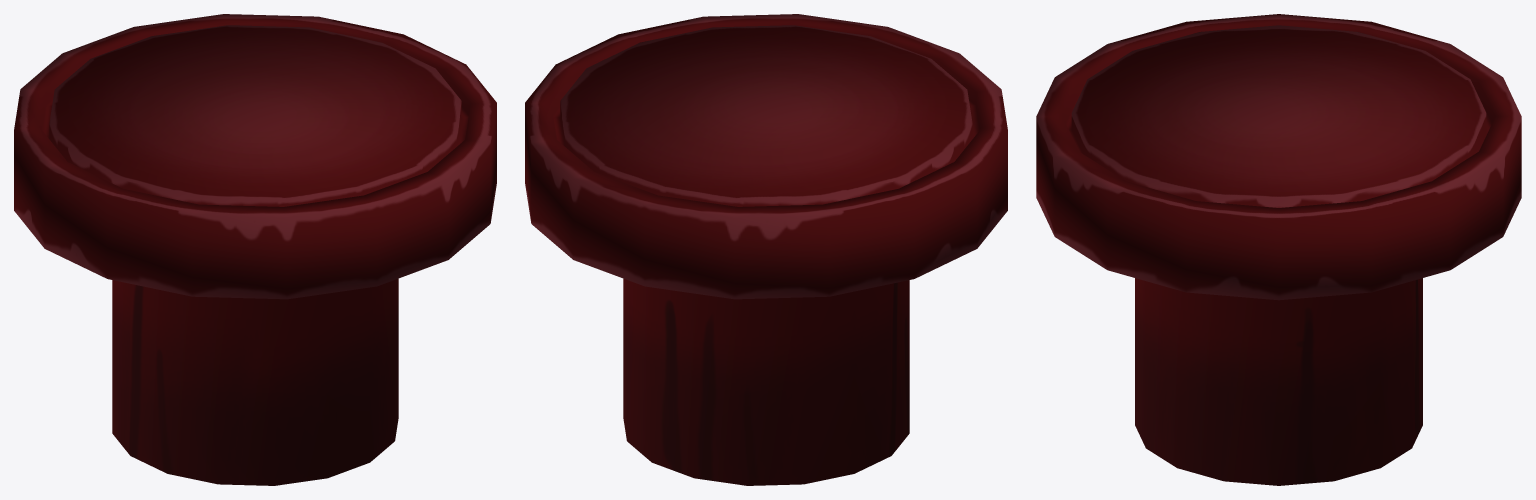
Rendered from Button_1.fbx.
3 views of the same model, side by side, from view 1: azimuth 30°, elevation 25°; view 2: azimuth 150°, elevation 25°; view 3: azimuth 270°, elevation 25° (orthographic).
Visible parts, largest first — view 1: Button; view 2: Button; view 3: Button.
Part boxes in pixels (bbox=[...]): Button: bbox=[14, 14, 496, 485]; Button: bbox=[525, 14, 1007, 485]; Button: bbox=[1036, 14, 1521, 485].
Bounding box in the file's own units: 187 × 133 × 187.
